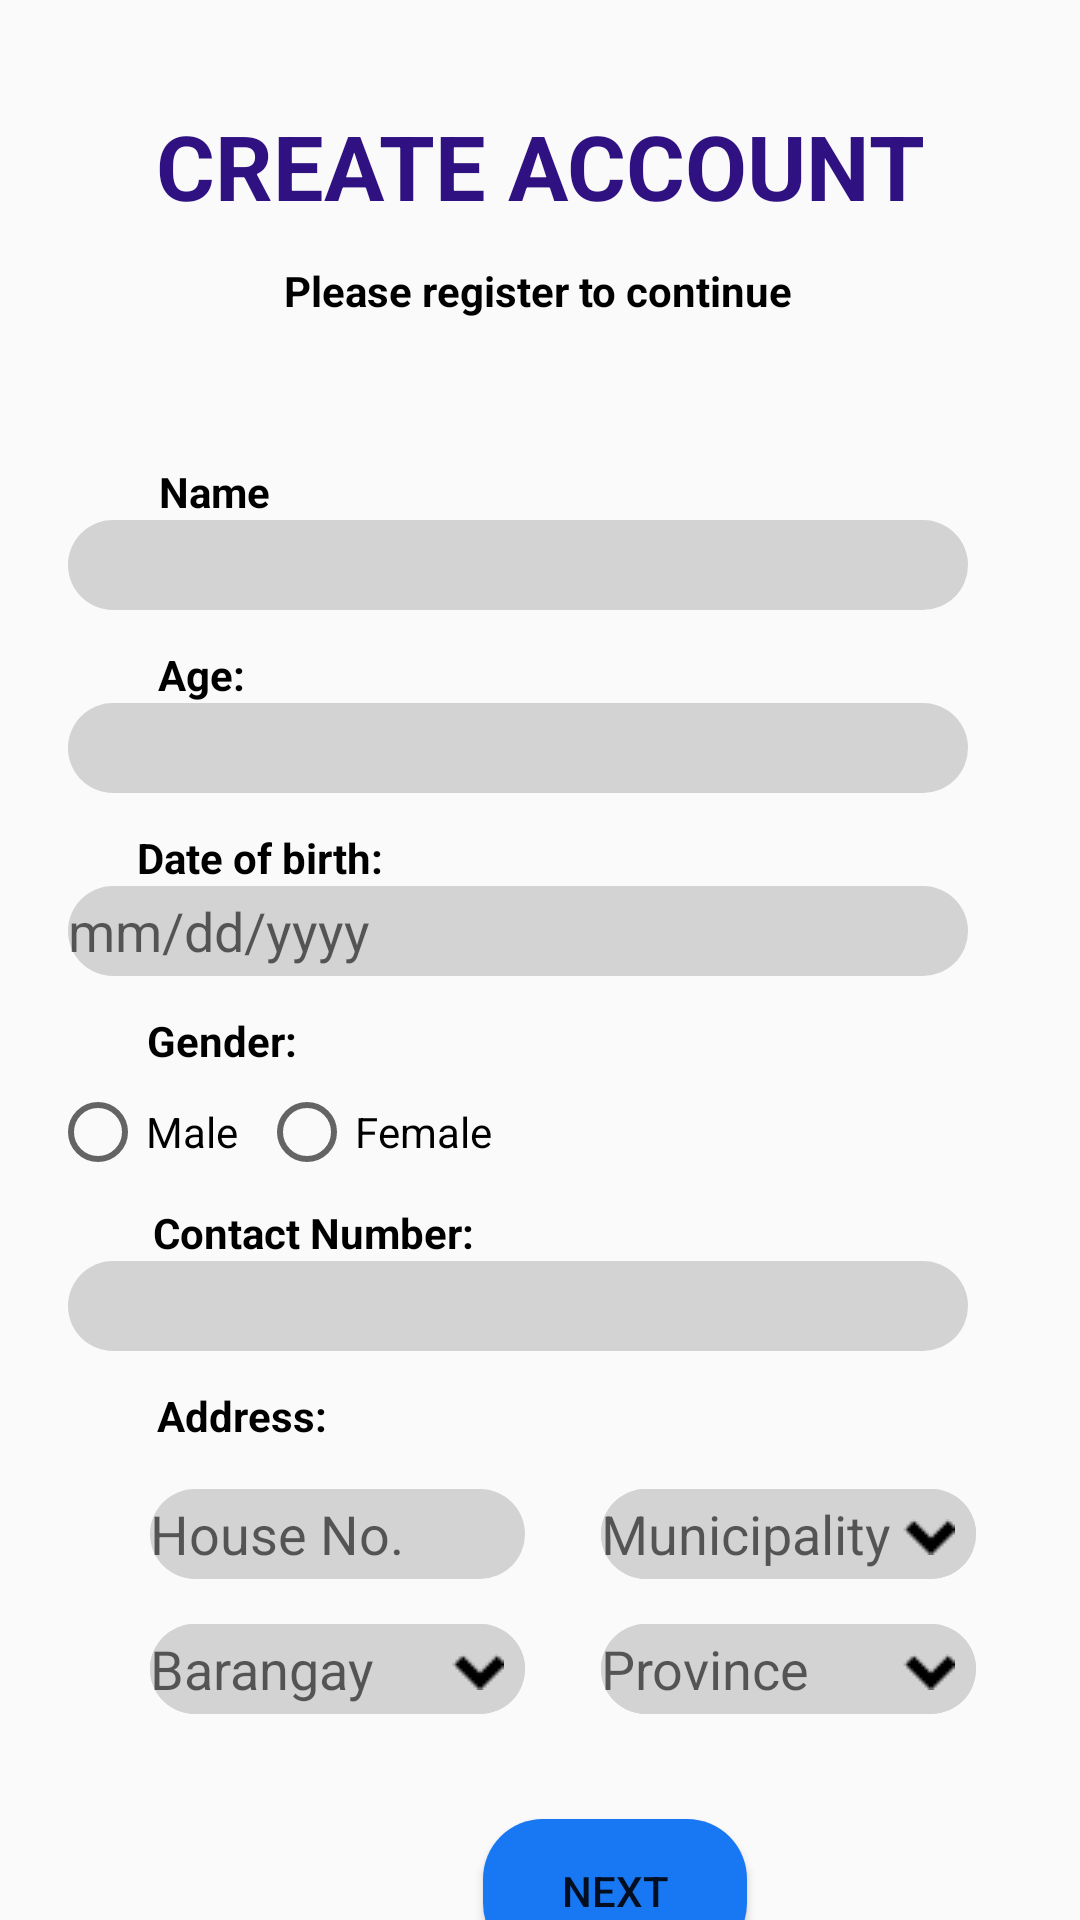

Icon bounding boxes for this 1080px×1920px phone screenshot, format [x1,y1,x2,y2]:
dropdown: [904,1519,955,1555], [453,1654,504,1690], [904,1654,955,1690]
